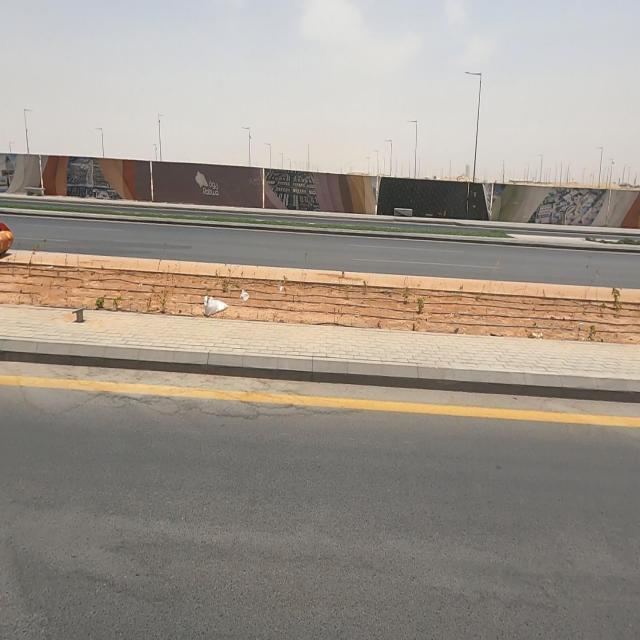debris: (179, 260, 238, 340), (226, 249, 269, 346)
